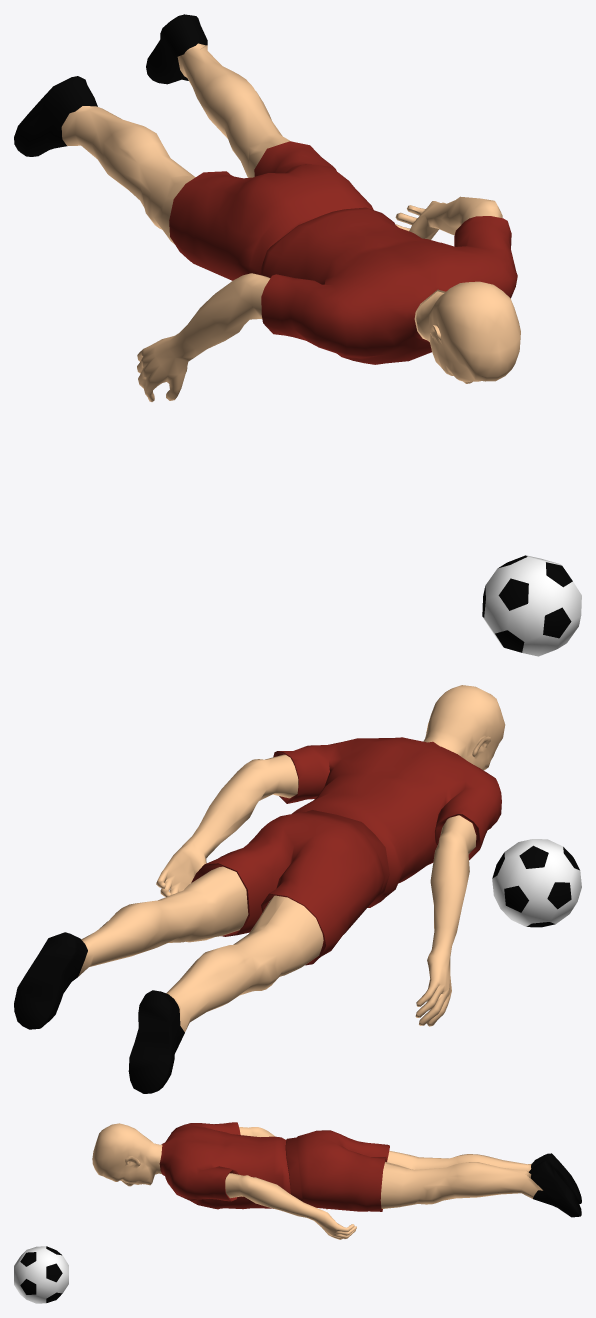
The model's file is Footballer N140612.obj.
3 renders of one model, top to bottom at view 1: azimuth 30°, elevation 25°; view 2: azimuth 150°, elevation 25°; view 3: azimuth 270°, elevation 25°, orthographic. The views are drawn at different scales.
Visible parts, largest first — view 1: soccerplay_2_001, soccer_001; view 2: soccerplay_2_001, soccer_001; view 3: soccerplay_2_001, soccer_001.
Part boxes in pixels (x1,y1,x2,y2): soccerplay_2_001: (14, 14, 520, 401); soccer_001: (482, 555, 581, 656); soccerplay_2_001: (14, 685, 505, 1093); soccer_001: (492, 839, 581, 927); soccerplay_2_001: (92, 1122, 581, 1239); soccer_001: (14, 1246, 68, 1303).
Bounding box in the file's own units: 79.87 × 77.31 × 223.
